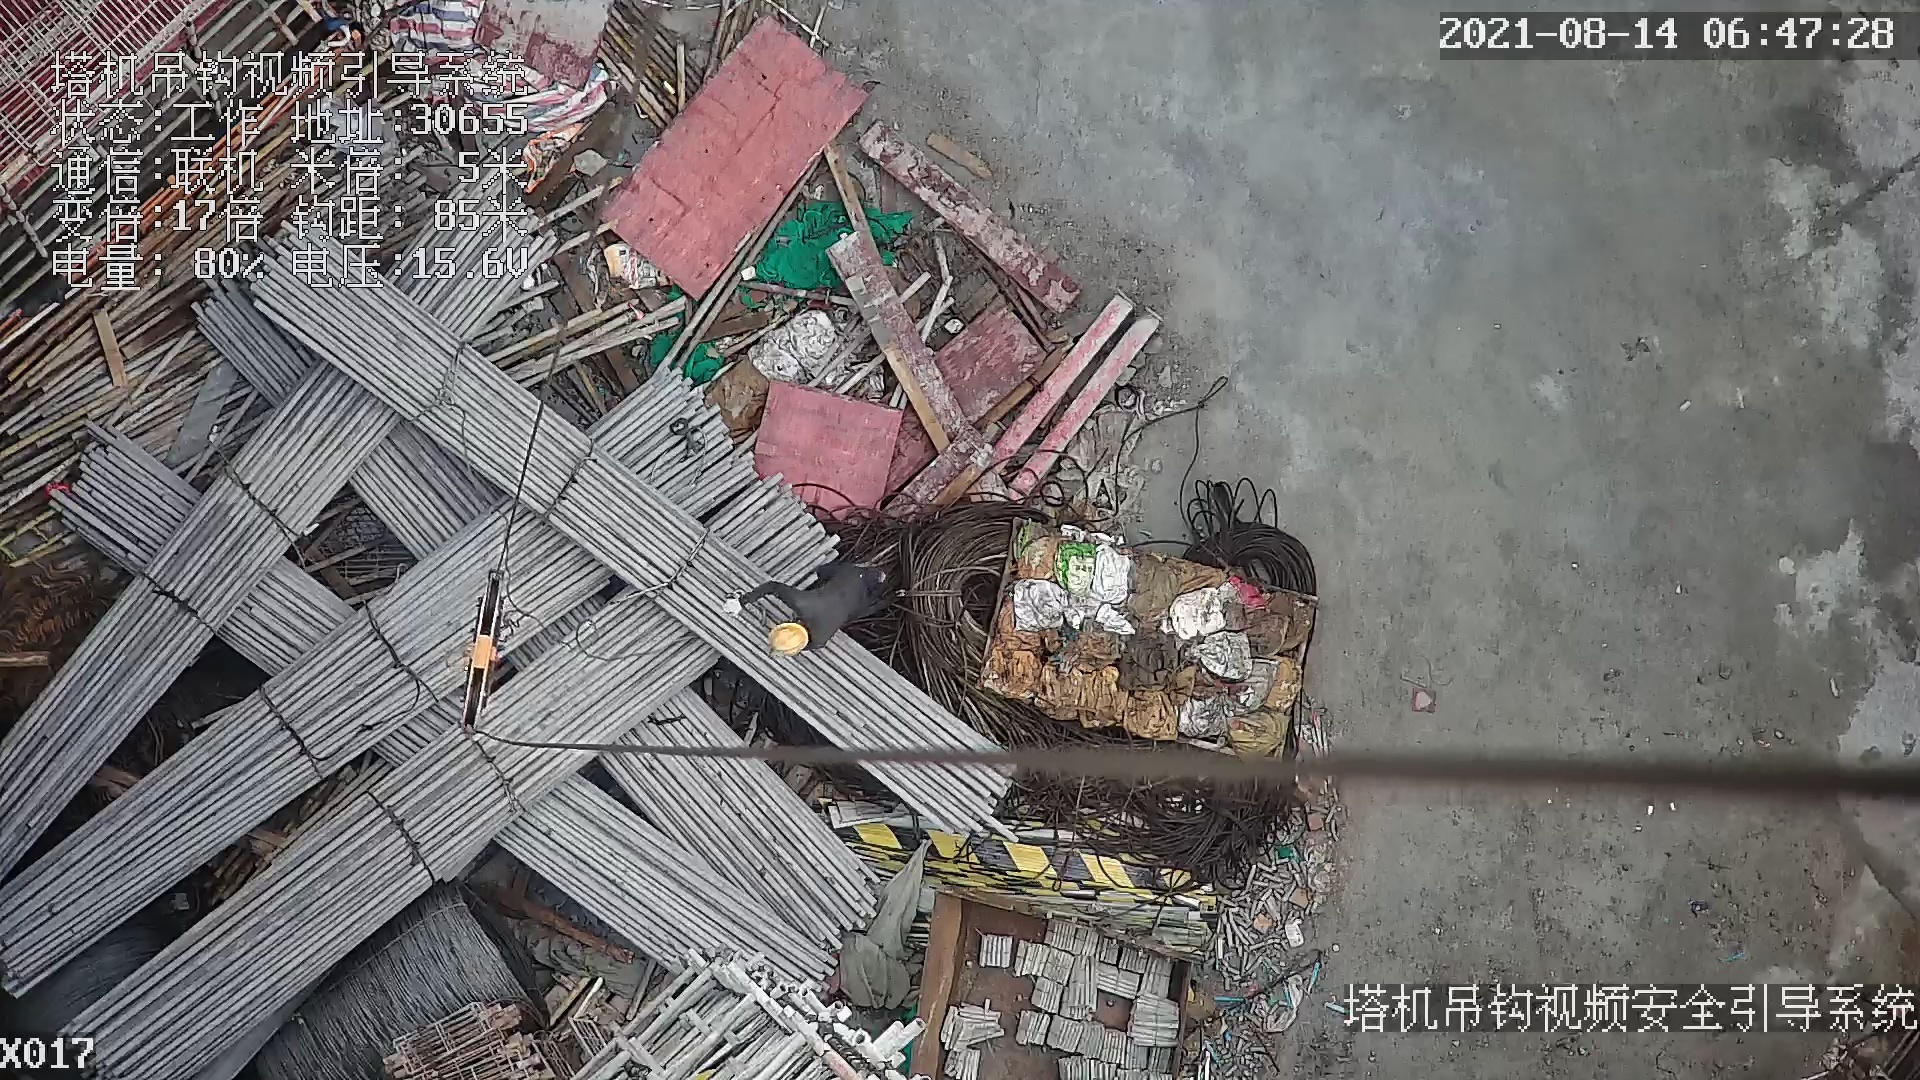board: (591, 13, 881, 294)
helmet: (769, 619, 810, 658)
hook: (455, 564, 520, 751)
person: (717, 555, 913, 660)
